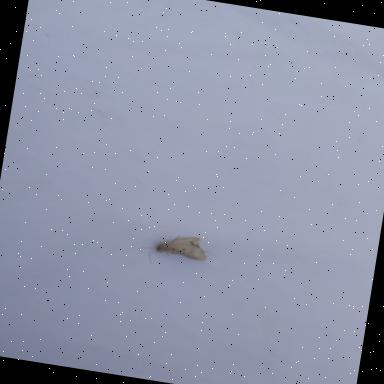abw: (135, 227, 212, 273)
